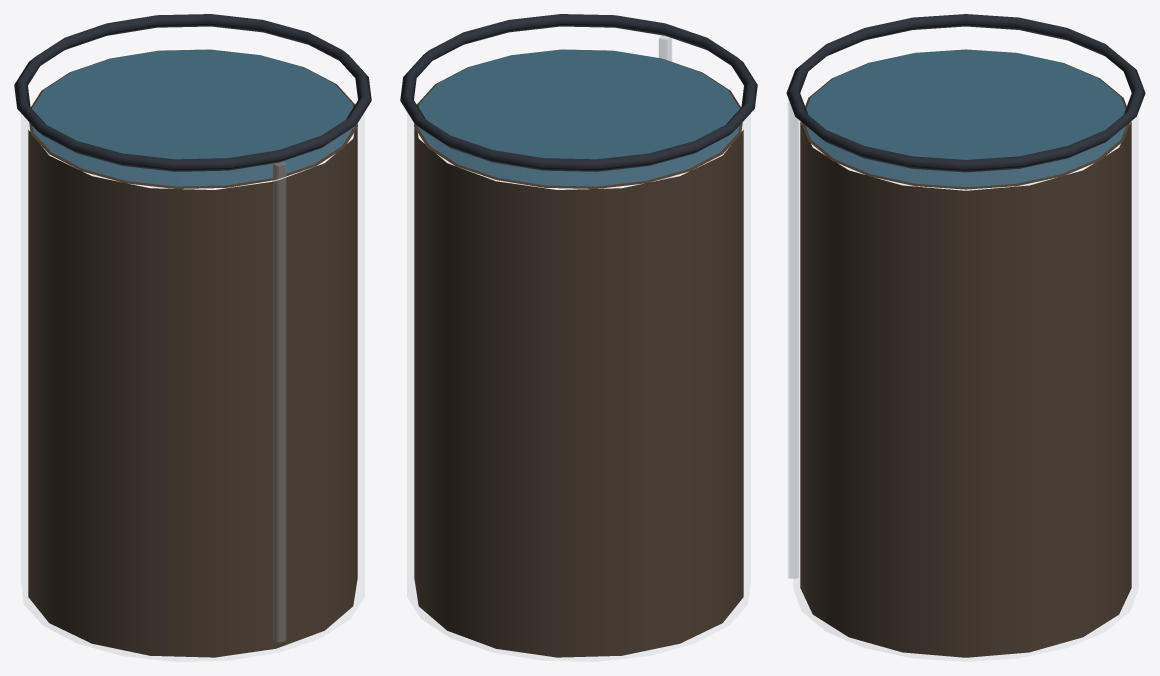
The model's file is vessel--generic_tall_pet_20l.glb.
3 views of the same model, side by side, from view 1: azimuth 30°, elevation 25°; view 2: azimuth 150°, elevation 25°; view 3: azimuth 270°, elevation 25° (orthographic).
Visible parts, largest first — view 1: soil_column, soil_surface, soil_wet, pot_rim, pot_body; view 2: soil_column, soil_surface, soil_wet, pot_rim; view 3: soil_column, soil_surface, soil_wet, pot_rim, pot_body.
Boxes of the visible parts, x1=… form: soil_column: x1=28, y1=127, x2=357, y2=657; soil_surface: x1=29, y1=49, x2=357, y2=188; soil_wet: x1=32, y1=49, x2=353, y2=186; pot_rim: x1=14, y1=14, x2=371, y2=171; pot_body: x1=272, y1=161, x2=286, y2=642; soil_column: x1=414, y1=127, x2=743, y2=657; soil_surface: x1=414, y1=49, x2=742, y2=188; soil_wet: x1=418, y1=49, x2=739, y2=186; pot_rim: x1=400, y1=14, x2=757, y2=171; soil_column: x1=800, y1=121, x2=1131, y2=657; soil_surface: x1=801, y1=49, x2=1130, y2=189; soil_wet: x1=806, y1=49, x2=1125, y2=186; pot_rim: x1=786, y1=14, x2=1145, y2=172; pot_body: x1=788, y1=99, x2=798, y2=578.
Size of the model in its own units: 0.26 by 0.401 by 0.26.
